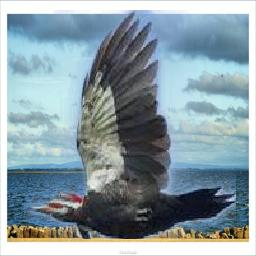Woodpecker: (24, 11, 236, 240)
